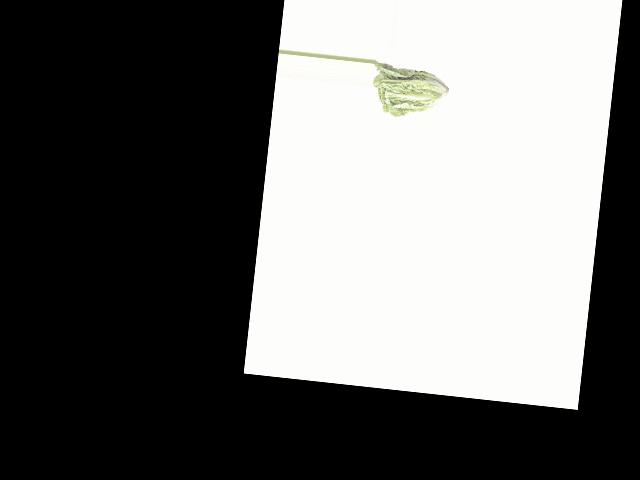lettuce: (369, 62, 449, 124)
